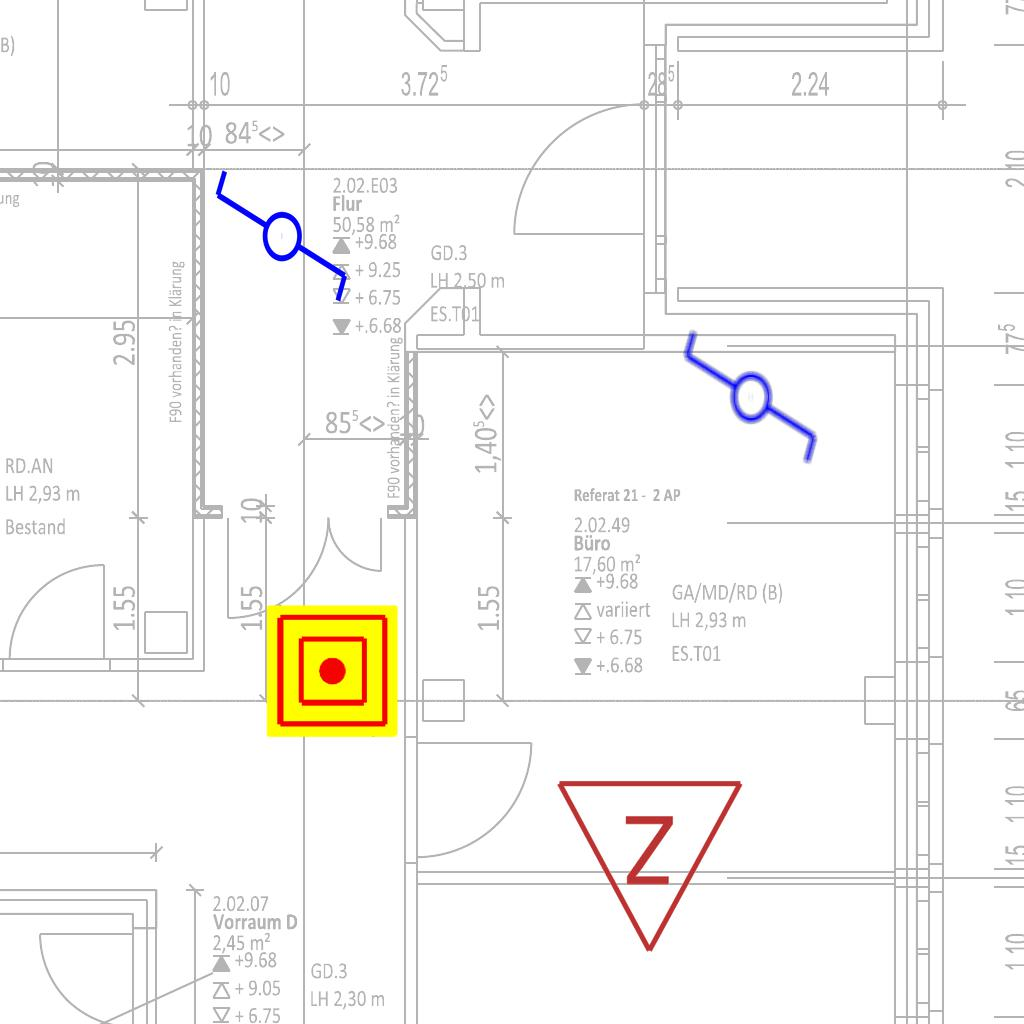NAM-Nichtautomatischer_Melder: (266, 605, 398, 737)
Wechselschalter: (208, 166, 352, 323), (677, 327, 821, 484)
Zimmersignalleuchte: (554, 766, 750, 966)
